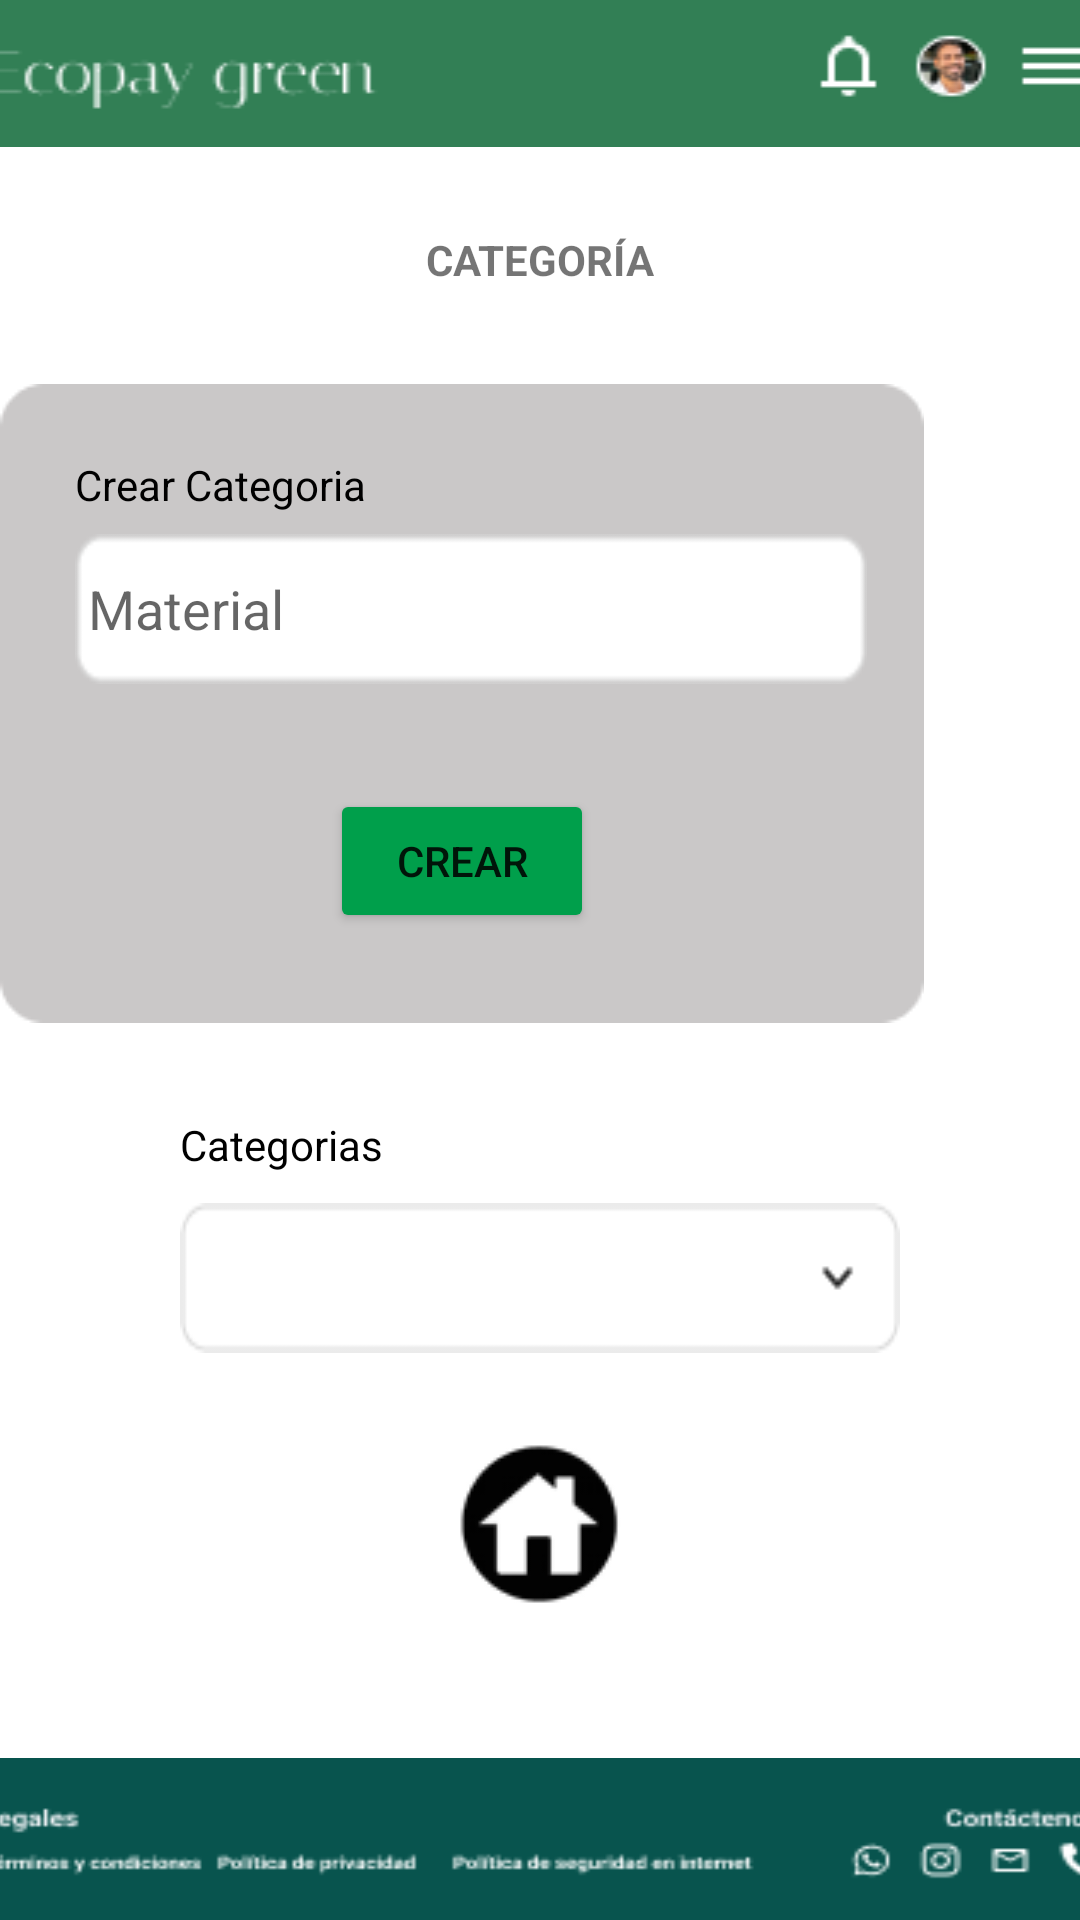

Where to tap for icons on this 1080×1920 app screen, as [x,y]:
homes: [539,1524]
